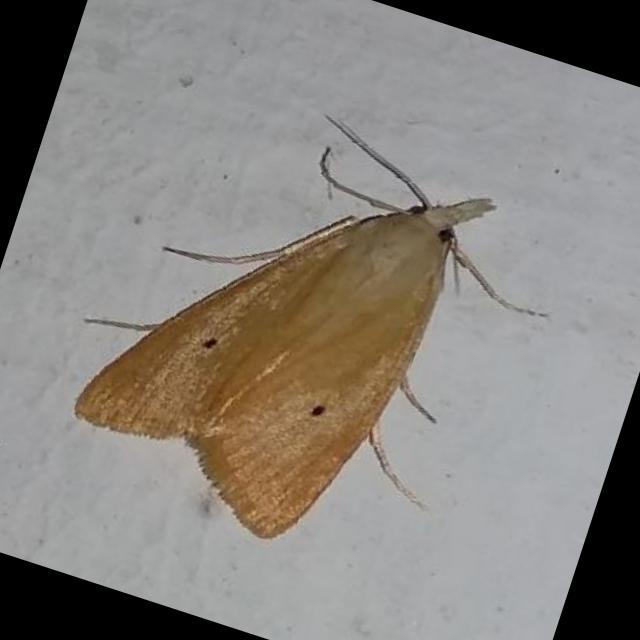stem-borer: (32, 54, 596, 608)
